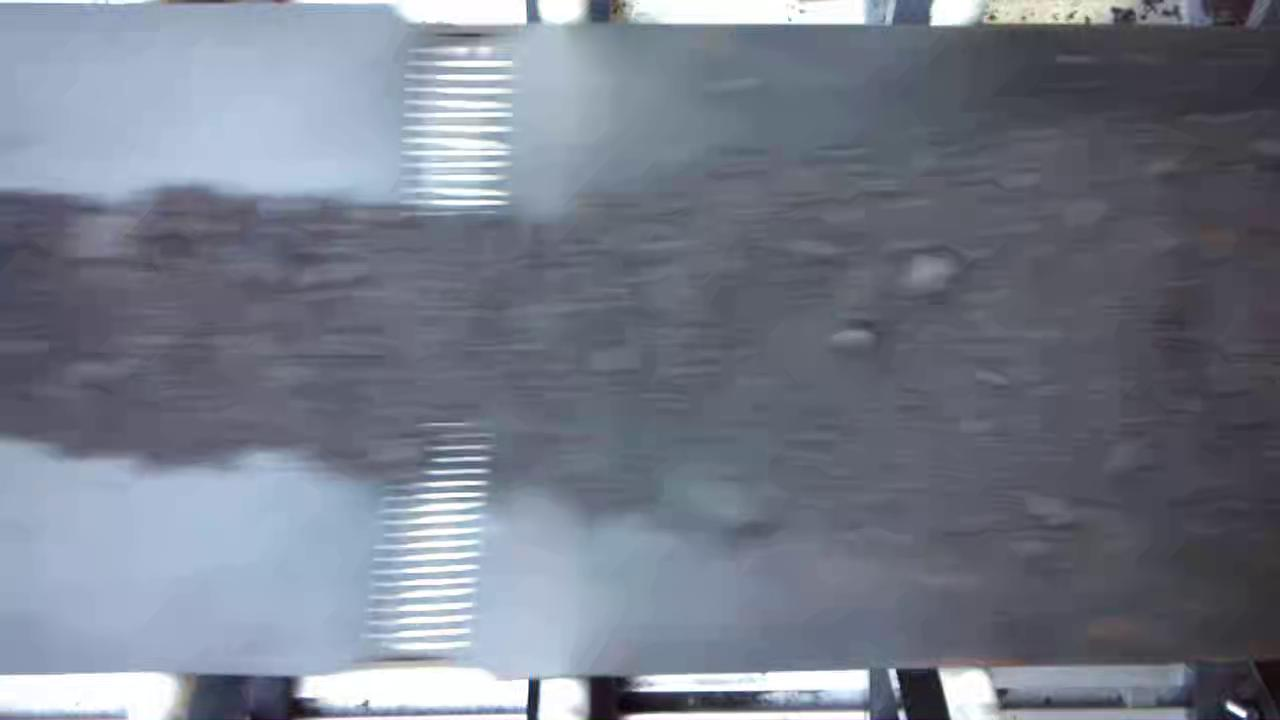conveyor: (0, 29, 1280, 660)
